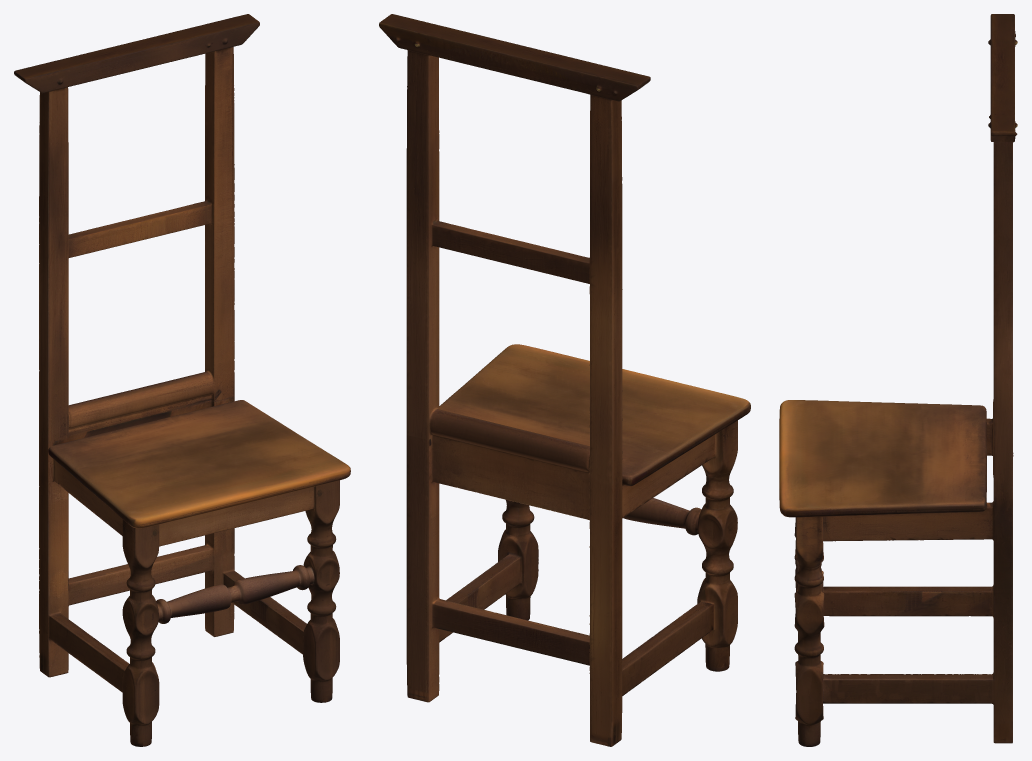
File: Meshy_AI_Vintage_Wooden_Chair__0529225328_texture.fbx
3 renders of one model, left to right at view 1: azimuth 30°, elevation 25°; view 2: azimuth 150°, elevation 25°; view 3: azimuth 270°, elevation 25°, orthographic. The views are drawn at different scales.
Parts seen in each view (by area): view 1: Mesh_0.001; view 2: Mesh_0.001; view 3: Mesh_0.001.
Boxes of the visible parts, bbox=[...] form: Mesh_0.001: bbox=[14, 14, 350, 746]; Mesh_0.001: bbox=[379, 14, 750, 746]; Mesh_0.001: bbox=[779, 14, 1017, 746].
Bounding box in the file's own units: 48.73 × 120 × 41.56.
Materials: 1 (1 with a texture image).
